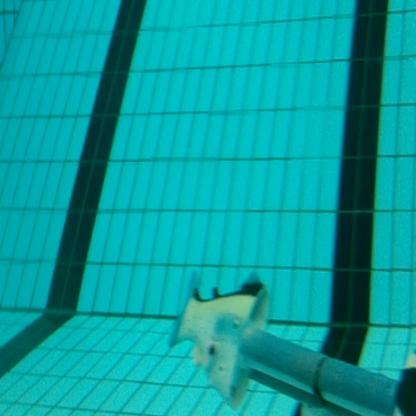tail: (167, 270, 272, 411)
